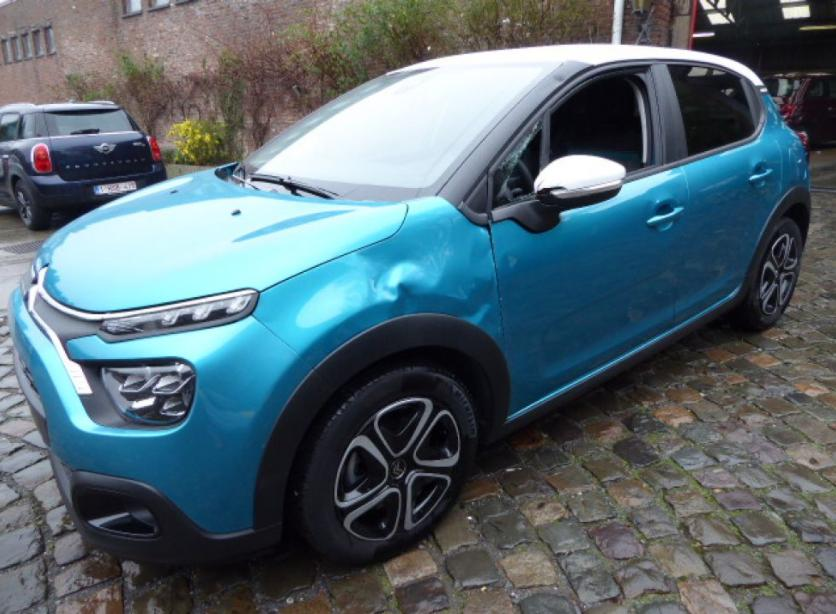Back-door: (653, 59, 783, 325)
Back-wheel: (741, 217, 802, 326)
Back-window: (668, 66, 755, 155), (745, 81, 761, 126)
Fender: (252, 197, 511, 443)
Front-bumper: (9, 267, 330, 559)
Front-door: (489, 60, 686, 414)
Front-wheel: (298, 367, 485, 564)
Front-window: (551, 71, 652, 171), (492, 125, 541, 210)
Grille: (18, 353, 38, 396)
Headlight: (100, 293, 253, 339)
Hood: (36, 161, 405, 313)
Mirror: (533, 151, 625, 207)
Quarter-panel: (758, 114, 811, 242)
Rocker-panel: (506, 278, 742, 422)
Roof: (388, 42, 760, 86)
Tail-light: (796, 131, 811, 164)
Windshield: (235, 63, 560, 200)
